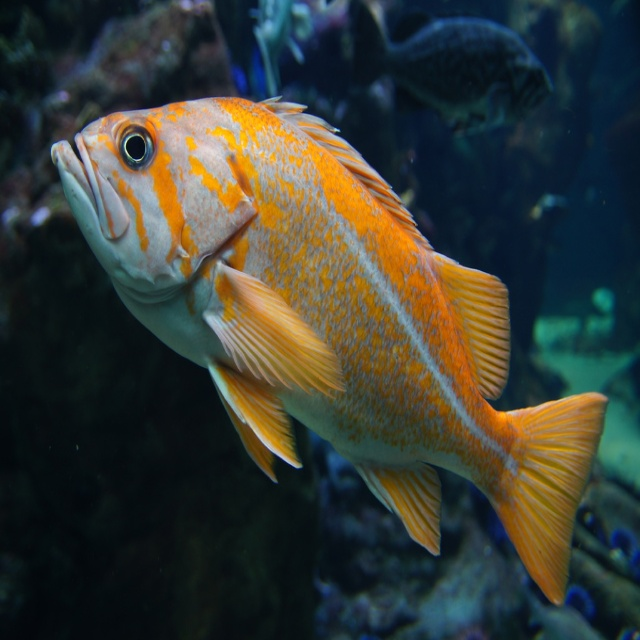Goldfish: (51, 119, 591, 582)
